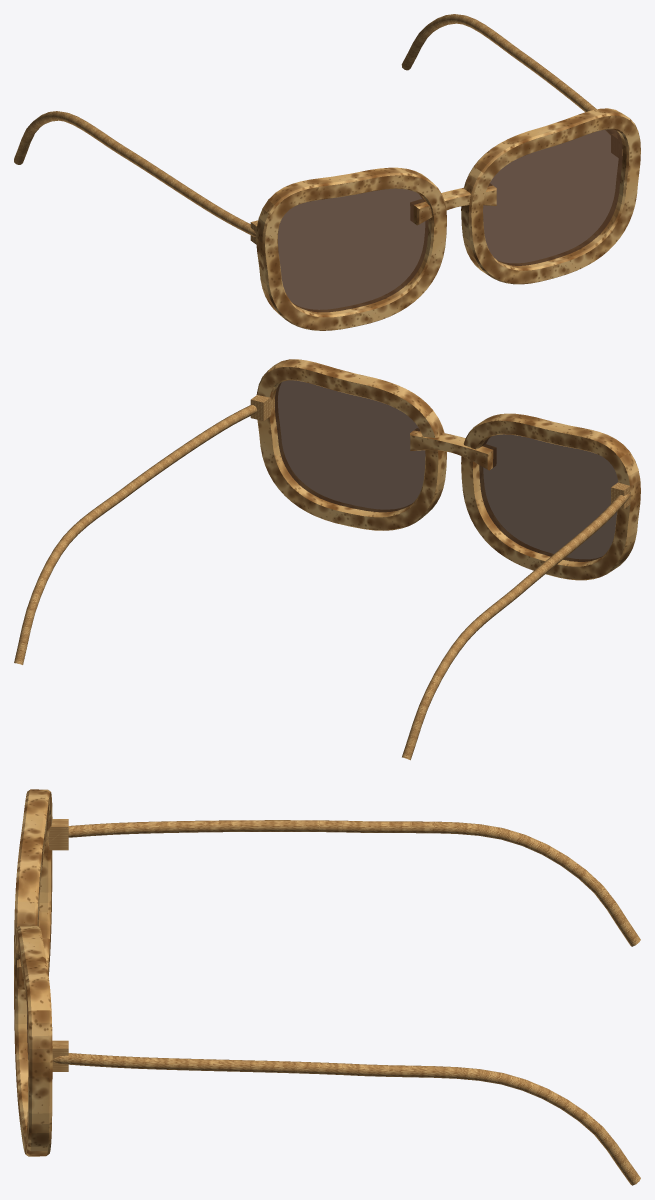
Rendered from BM-S03_Marina_Honey_tortoise_Brown_lens.glb.
3 renders of one model, top to bottom at view 1: azimuth 30°, elevation 25°; view 2: azimuth 150°, elevation 25°; view 3: azimuth 270°, elevation 25°, orthographic. The views are drawn at different scales.
Visible parts, largest first — view 1: Marina_Honey_tortoise_Brown_lens_Lenses, Marina_Honey_tortoise_Brown_lens_Acetate; view 2: Marina_Honey_tortoise_Brown_lens_Acetate, Marina_Honey_tortoise_Brown_lens_Lenses; view 3: Marina_Honey_tortoise_Brown_lens_Acetate.
Part boxes in pixels (<box>): Marina_Honey_tortoise_Brown_lens_Lenses: <box>278,129,622,312</box>; Marina_Honey_tortoise_Brown_lens_Acetate: <box>14,14,640,330</box>; Marina_Honey_tortoise_Brown_lens_Acetate: <box>14,359,640,760</box>; Marina_Honey_tortoise_Brown_lens_Lenses: <box>275,380,618,561</box>; Marina_Honey_tortoise_Brown_lens_Acetate: <box>14,789,640,1185</box>.
Size of the model in its own units: 0.1534 by 0.0542 by 0.1625.
2 materials, 1 textured.
